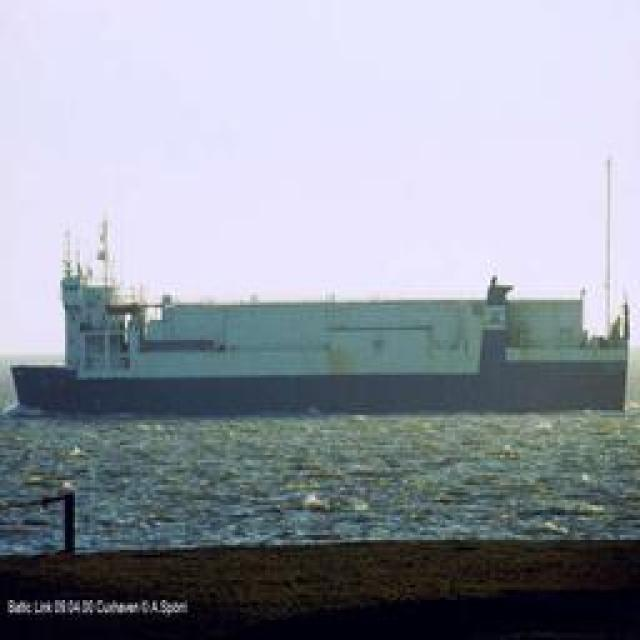ship2: (4, 156, 630, 421)
